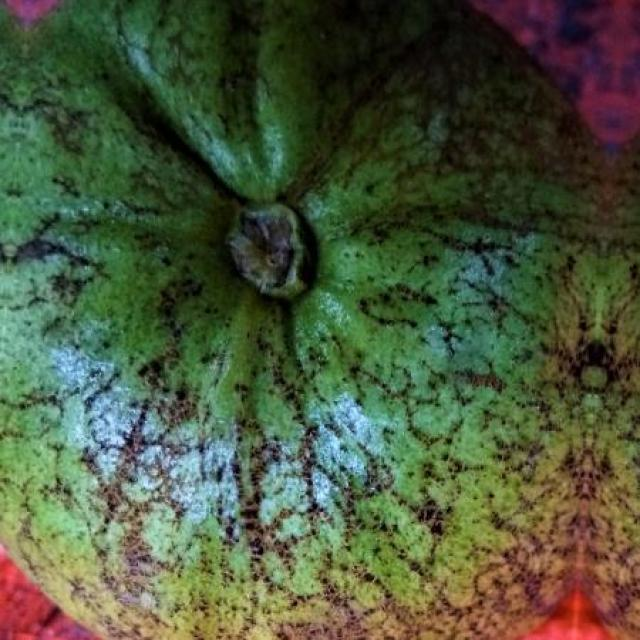Scab: (0, 0, 640, 640)
